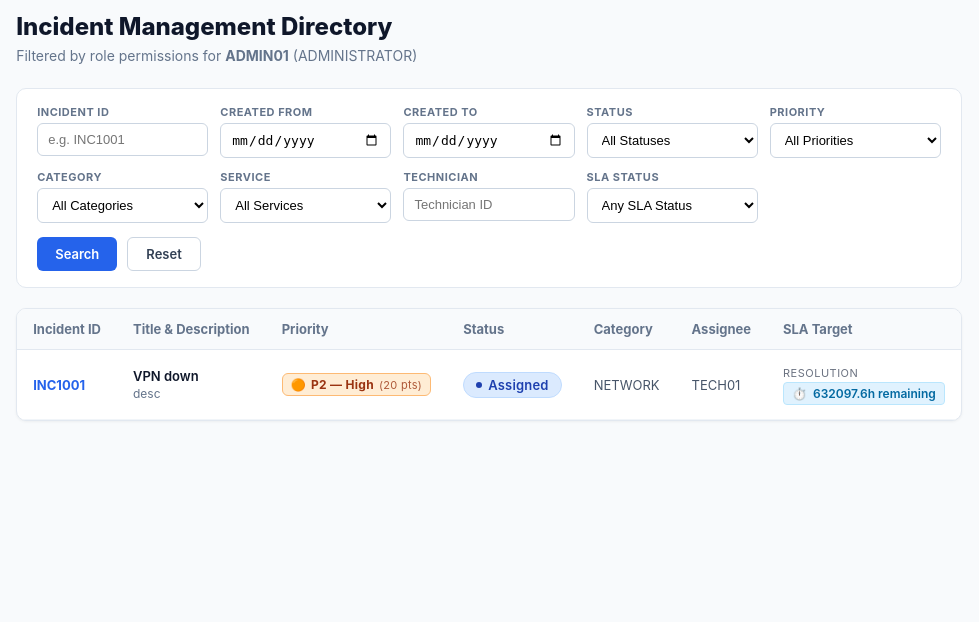
Test: IncidentListPage server-side search › shows the backend error message when the search is rejected
This screenshot has width=979, height=622.
Expected: the link "VPN down" is shown, [133,368,199,384]
Click the button "Search": {"x": 77, "y": 254} [37,237,117,271]
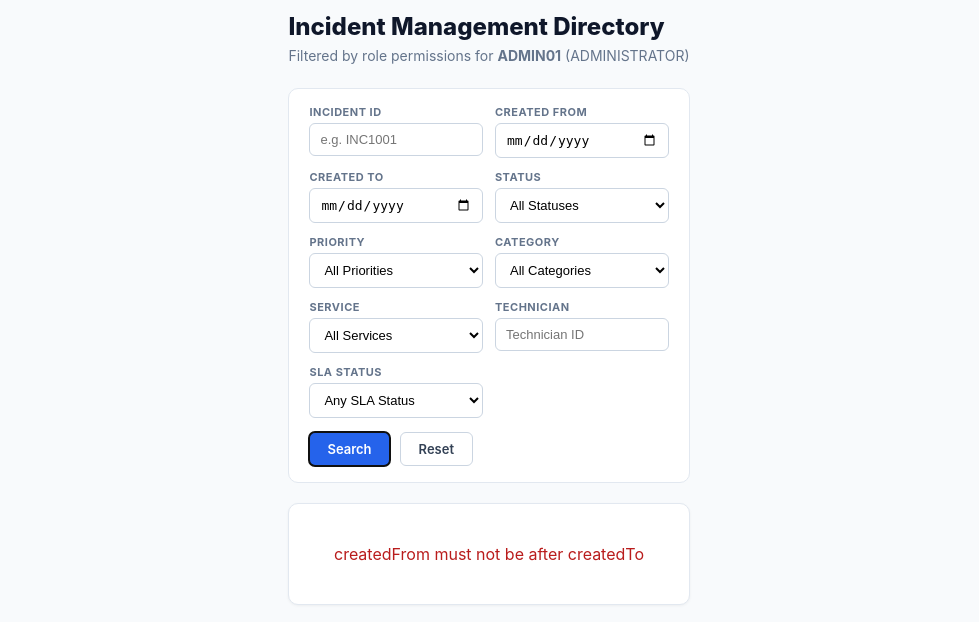
Now the message reads "createdFrom must not be after createdTo", box [334,544,644,564]
